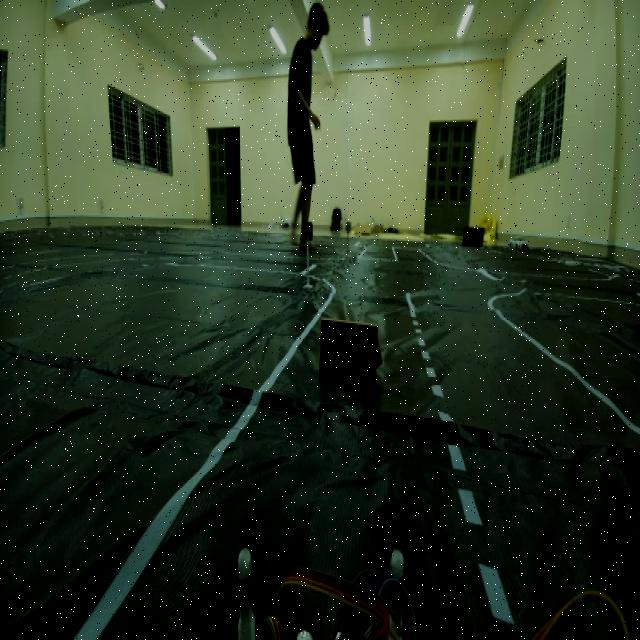roadblock: (315, 300, 390, 394)
